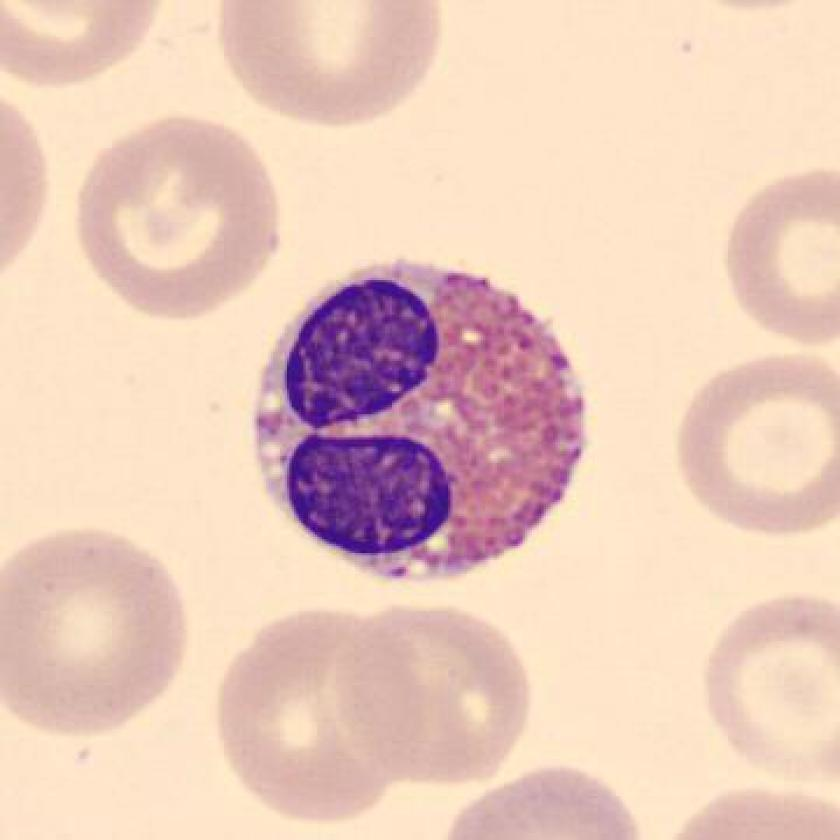eosinophil: (239, 251, 598, 603)
